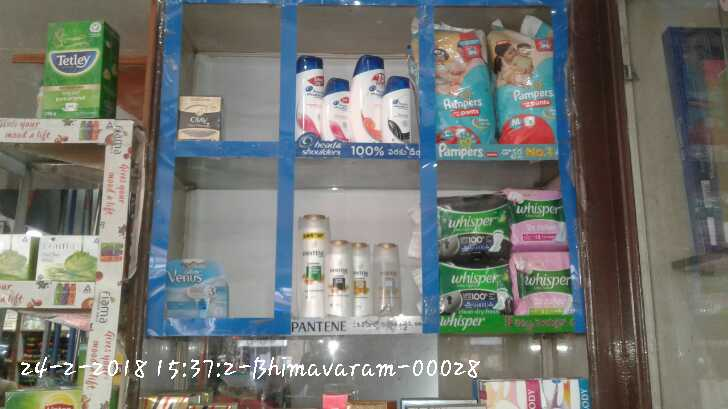venus: (163, 256, 229, 316)
